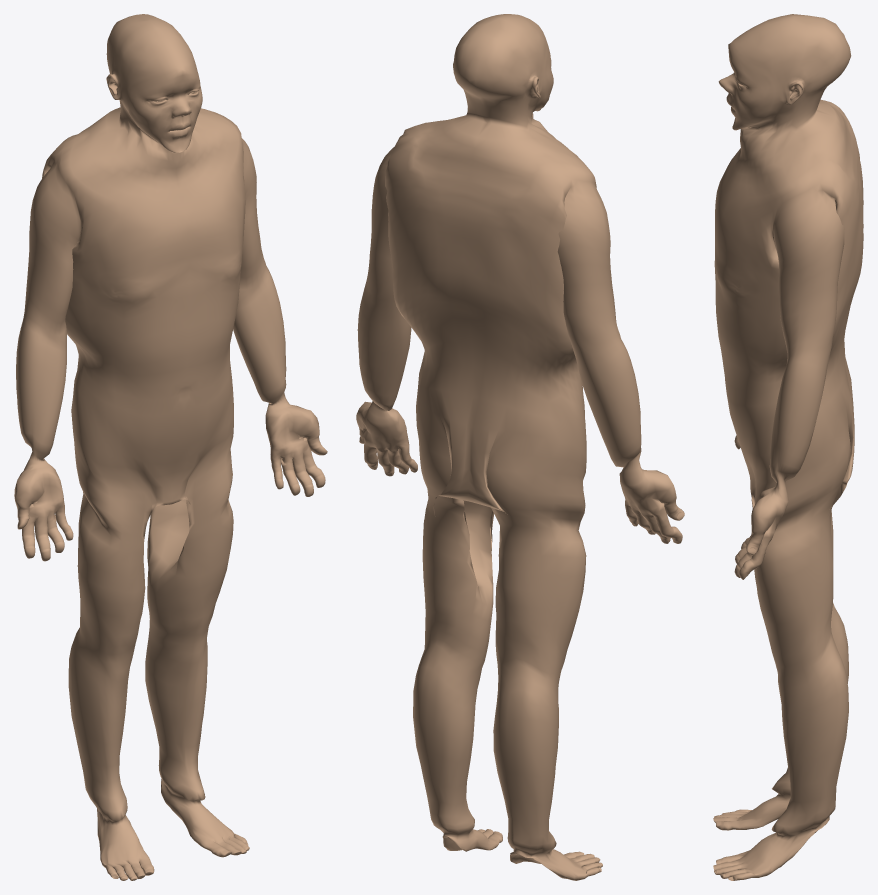
The model's file is skin-candidate-r9.glb.
3 renders of one model, left to right at view 1: azimuth 30°, elevation 25°; view 2: azimuth 150°, elevation 25°; view 3: azimuth 270°, elevation 25°, orthographic. The views are drawn at different scales.
Parts seen in each view (by area): view 1: MakeHuman_AT10_skin_fit_candidate_r9; view 2: MakeHuman_AT10_skin_fit_candidate_r9; view 3: MakeHuman_AT10_skin_fit_candidate_r9.
Boxes of the visible parts, x1=… form: MakeHuman_AT10_skin_fit_candidate_r9: x1=14, y1=14, x2=327, y2=880; MakeHuman_AT10_skin_fit_candidate_r9: x1=356, y1=14, x2=684, y2=880; MakeHuman_AT10_skin_fit_candidate_r9: x1=713, y1=14, x2=863, y2=880.
Size of the model in its own units: 0.673 by 1.71 by 0.28.
